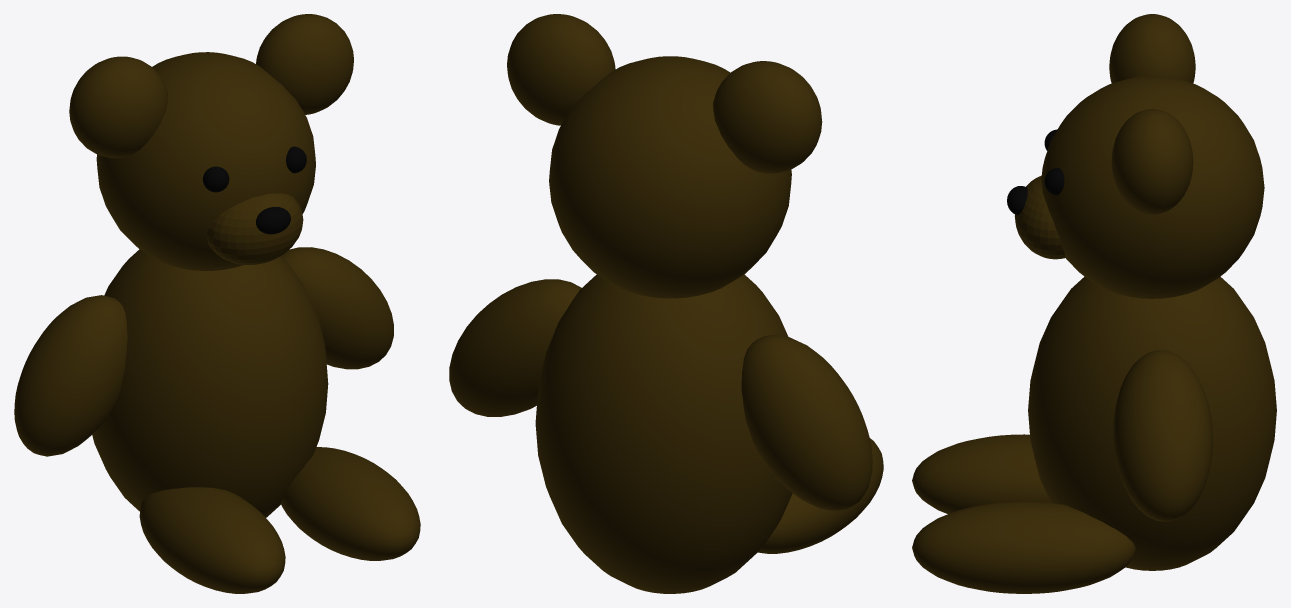
File: Juguete_generico(osoPeluche) 1.fbx
3 renders of one model, left to right at view 1: azimuth 30°, elevation 25°; view 2: azimuth 150°, elevation 25°; view 3: azimuth 270°, elevation 25°, orthographic. The views are drawn at different scales.
Parts seen in each view (by area): view 1: Sphere; view 2: Sphere; view 3: Sphere.
Part boxes in pixels (x1,y1,x2,y2): Sphere: (14, 14, 420, 593); Sphere: (449, 14, 883, 593); Sphere: (912, 14, 1276, 593).
Bounding box in the file's own units: 390 × 492 × 326.
